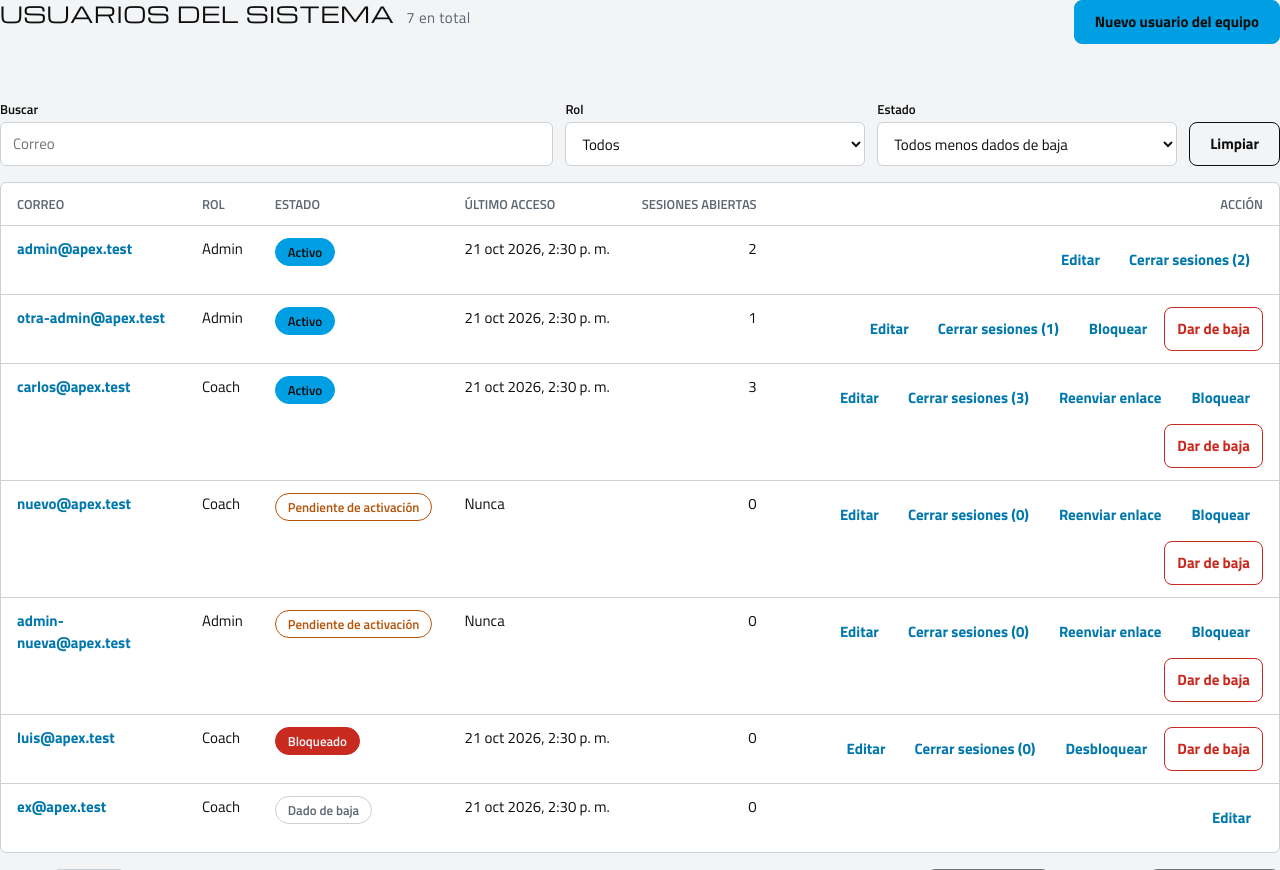
Test: UsersPage · bloquear (US-051) › 409 cannot_lock_self se explica dentro del modal
Click the button "Bloquear" in the row of "otra-admin@apex.test". click: (1118, 329)
box: [1076,307,1160,351]
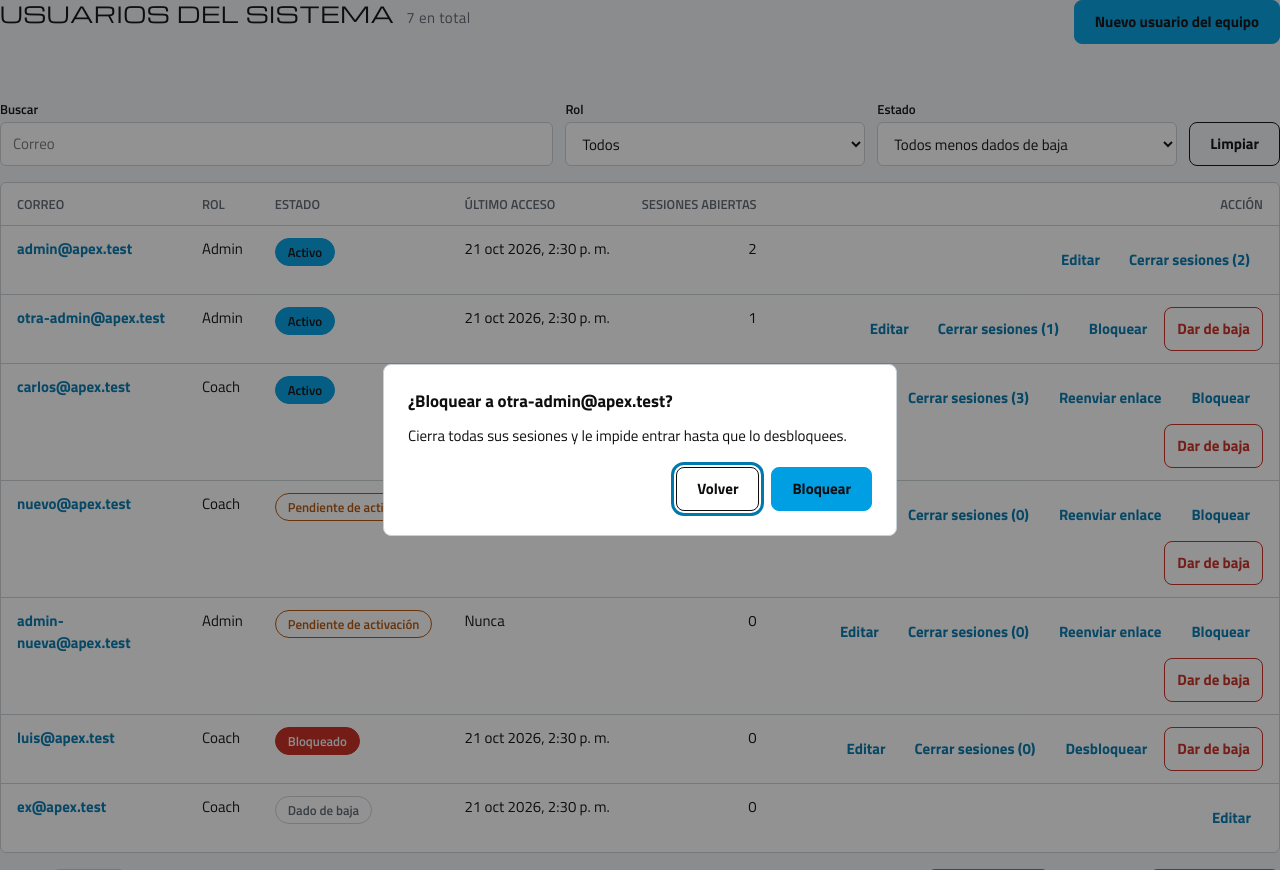
Click the button "Bloquear". click: (822, 489)
box: [772,467,872,511]
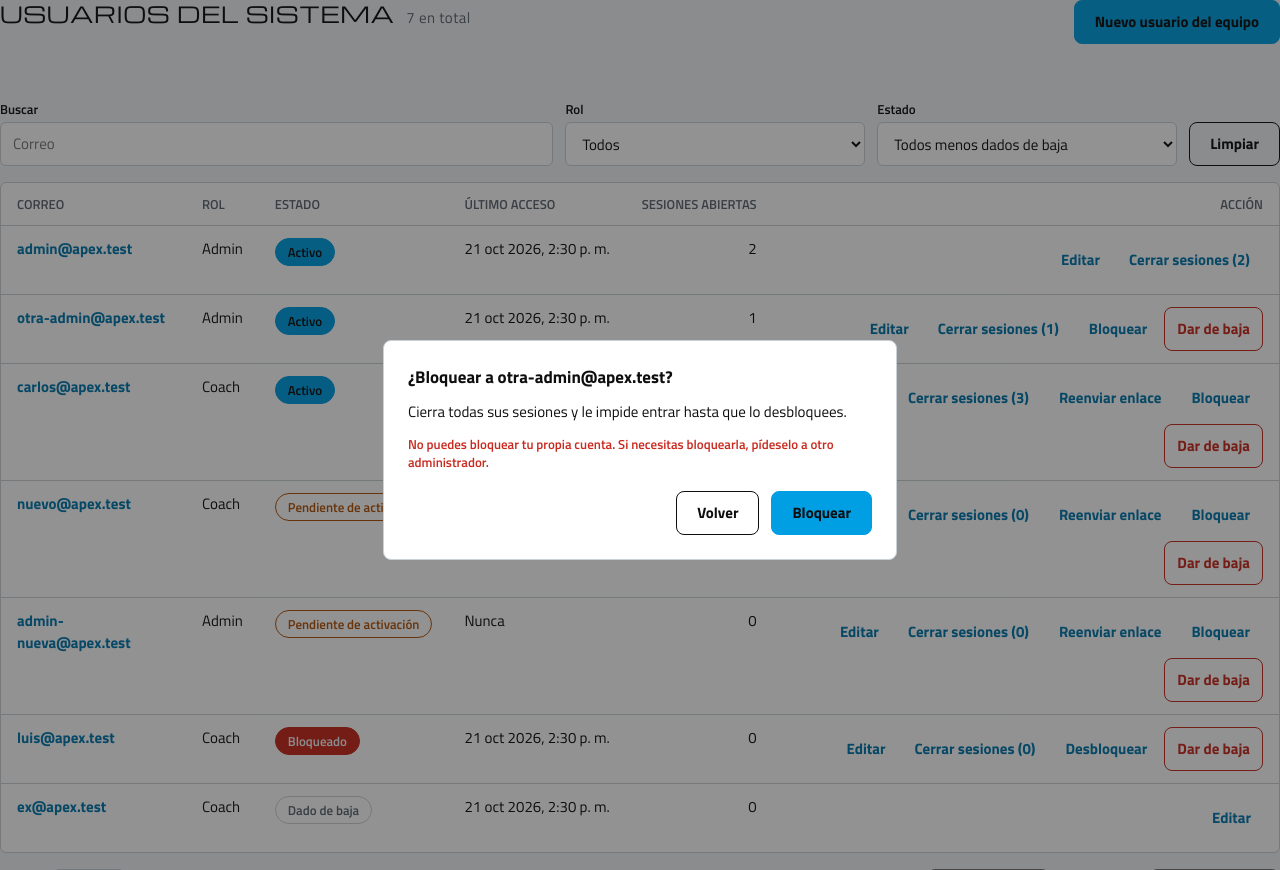
Now the message shows "No puedes bloquear tu propia cuenta. Si necesitas bloquearla, pídeselo a otro administrador.", box [408,434,834,472]
